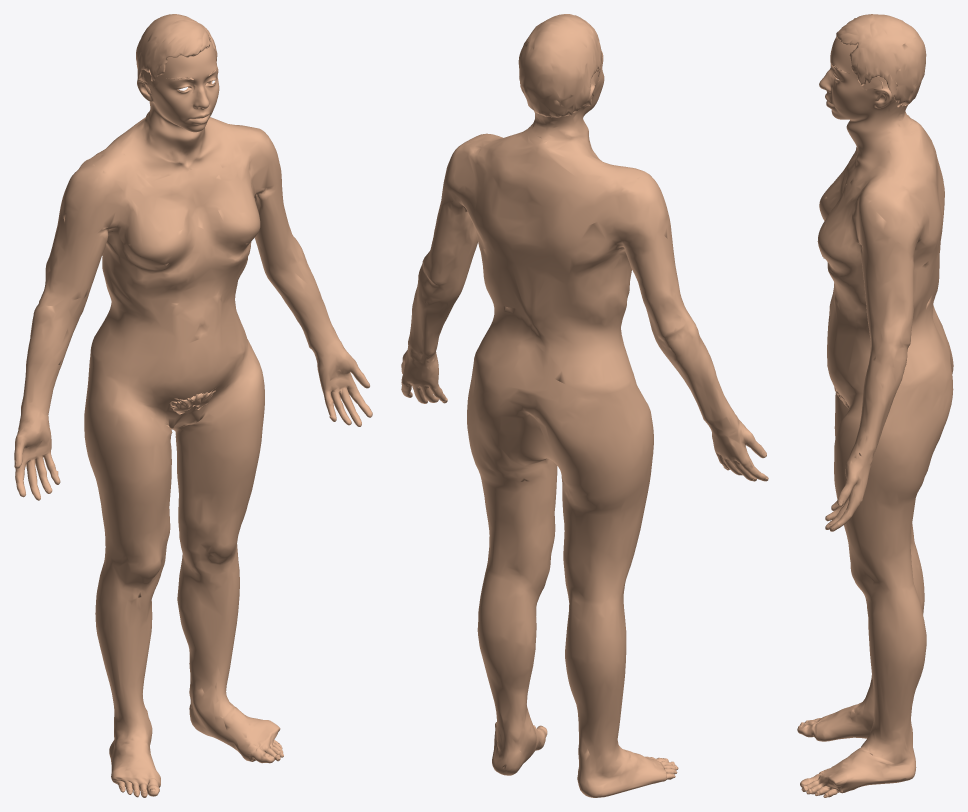
The model's file is integumentary.glb.
3 views of the same model, side by side, from view 1: azimuth 30°, elevation 25°; view 2: azimuth 150°, elevation 25°; view 3: azimuth 270°, elevation 25° (orthographic). The views are drawn at different scales.
Visible parts, largest first — view 1: SOMA_skin, W_FJ2813; view 2: SOMA_skin, W_FJ2813; view 3: SOMA_skin, W_FJ2813.
Part boxes in pixels (bbox=[...]): SOMA_skin: bbox=[14, 39, 372, 797]; W_FJ2813: bbox=[136, 14, 217, 88]; SOMA_skin: bbox=[401, 51, 768, 797]; W_FJ2813: bbox=[518, 14, 601, 117]; SOMA_skin: bbox=[797, 37, 953, 797]; W_FJ2813: bbox=[836, 14, 926, 107].
Bounding box in the file's own units: 0.8107 × 1.61 × 0.3047.
